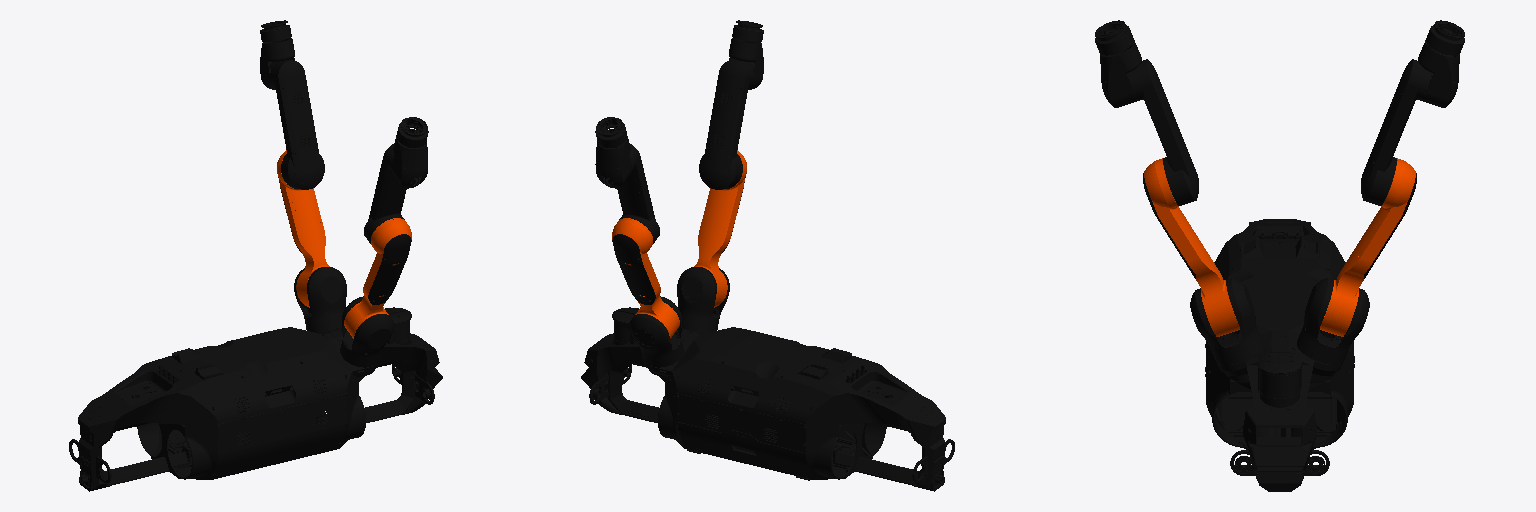
The robot description file, URDF, robot "kyon":
<?xml version="1.0" ?>
<!-- =================================================================================== -->
<!-- |    This document was autogenerated by xacro from kyon.urdf.xacro                | -->
<!-- |    EDITING THIS FILE BY HAND IS NOT RECOMMENDED                                 | -->
<!-- =================================================================================== -->
<robot name="kyon">
  <!-- scaling factor for available peack torque link side, from 0 to 1 -->
  <material name="black">
    <color rgba="0.4 0.4 0.4 1"/>
  </material>
  <material name="dark_grey">
    <color rgba="0.1 0.1 0.1 1"/>
  </material>
  <material name="light_grey">
    <color rgba="0.2 0.2 0.2 1"/>
  </material>
  <material name="kyon_orange">
    <color rgba="0.925 0.325 0.0 1"/>
  </material>
  <!-- Compound properties (i.e. based on the props parsed from the yaml) -->
  <link name="base_link"/>
  <link name="pelvis">
    <inertial>
      <origin xyz="0.056500758 0.002091838 0.086799843"/>
      <mass value="19.962822"/>
      <inertia ixx="0.24817282999999998" ixy="-0.0041644587" ixz="-0.060913554999999994" iyy="1.2563811999999999" iyz="0.00024917702" izz="1.2495441"/>
    </inertial>
    <visual>
      <origin rpy="0.0 0.0 0.0" xyz="0.0 0 0.0"/>
      <geometry>
        <mesh filename="./meshes/mesh_pelvis.stl" scale="0.001 0.001 0.001"/>
      </geometry>
      <material name="dark_grey"/>
    </visual>
    <collision>
      <origin rpy="0.0 0.0 0.0" xyz="0.0 0.0 0.0"/>
      <geometry>
        <box size="0.8 0.3 0.2"/>
      </geometry>
    </collision>
  </link>
  <joint name="base_joint" type="fixed">
    <parent link="pelvis"/>
    <child link="base_link"/>
    <origin rpy="0 0 0" xyz="0 0 0"/>
  </joint>
  <link name="imu_link"/>
  <joint name="imu_joint" type="fixed">
    <origin rpy="3.14159265359 0 0" xyz="-0.256190 0 0.103"/>
    <parent link="pelvis"/>
    <child link="imu_link"/>
  </joint>
  <!-- CAMERA BASE FRAMES -->
  <link name="zed_front_up_mount_link"/>
  <joint name="zed_front_up_mount_joint" type="fixed">
    <parent link="pelvis"/>
    <child link="zed_front_up_mount_link"/>
    <origin rpy="0 -0.1745327 0" xyz="0.526174 0 0.0674608"/>
  </joint>
  <link name="zed_front_down_mount_link"/>
  <joint name="zed_front_down_mount_joint" type="fixed">
    <parent link="pelvis"/>
    <child link="zed_front_down_mount_link"/>
    <origin rpy="0 0.9250251 0" xyz="0.509601 0 0.00343992"/>
  </joint>
  <link name="left_camera_mount_link"/>
  <joint name="left_camera_mount_joint" type="fixed">
    <parent link="pelvis"/>
    <child link="left_camera_mount_link"/>
    <origin rpy="0 0.3490656 1.5707963" xyz="0 0.150100 0.109486"/>
  </joint>
  <link name="right_camera_mount_link"/>
  <joint name="right_camera_mount_joint" type="fixed">
    <parent link="pelvis"/>
    <child link="right_camera_mount_link"/>
    <origin rpy="0 0.3490656 -1.5707963" xyz="0 -0.150100 0.109486"/>
  </joint>
  <!-- Velodyne -->
  <link name="hesai_lidar"/>
  <joint name="hesai_lidar_joints" type="fixed">
    <origin rpy="0 0 0.5220063" xyz="0.43 0 0.118"/>
    <parent link="pelvis"/>
    <child link="hesai_lidar"/>
  </joint>
  <link name="shoulder_yaw_1_link">
    <inertial>
      <origin xyz="-0.00036680683 -0.00091946646 0.039513613999999996"/>
      <mass value="0.68281255"/>
      <inertia ixx="0.0024646423" ixy="6.777069799999999e-07" ixz="-7.4060192e-06" iyy="0.0019177419999999998" iyz="-3.9949027e-05" izz="0.0019116331999999999"/>
    </inertial>
    <visual>
      <origin rpy="0.0 0.0 0.0" xyz="0.0 0.0 0.0"/>
      <geometry>
        <mesh filename="./meshes/mesh_sh_yaw.stl" scale="0.001 0.001 0.001"/>
      </geometry>
      <material name="dark_grey"/>
    </visual>
  </link>
  <link name="shoulder_pitch_1_link">
    <inertial>
      <origin xyz="-7.458544400000001e-06 -0.14775681000000002 -0.0017955048000000001"/>
      <mass value="2.6972599"/>
      <inertia ixx="0.061239751999999995" ixy="-1.9752319e-05" ixz="-5.9550041e-06" iyy="0.0032676404999999998" iyz="-0.00040271622999999996" izz="0.06110526"/>
    </inertial>
    <visual>
      <geometry>
        <mesh filename="./meshes/mesh_sh_pitch_cover.stl" scale="0.001 0.001 0.001"/>
      </geometry>
      <material name="dark_grey"/>
    </visual>
    <visual>
      <geometry>
        <mesh filename="./meshes/mesh_sh_pitch.stl" scale="0.001 0.001 0.001"/>
      </geometry>
      <material name="kyon_orange"/>
    </visual>
  </link>
  <link name="elbow_pitch_1_link">
    <inertial>
      <origin xyz="-0.00032761312 -0.16511035000000002 0.022799378000000002"/>
      <mass value="1.048477"/>
      <inertia ixx="0.01112601" ixy="1.7724864e-05" ixz="6.0670899e-06" iyy="0.00095730481" iyz="-0.0010167295" izz="0.011293245999999998"/>
    </inertial>
    <visual>
      <geometry>
        <mesh filename="./meshes/mesh_elbow.stl" scale="0.001 0.001 0.001"/>
      </geometry>
      <material name="dark_grey"/>
    </visual>
  </link>
  <link name="wrist_pitch_1_link">
    <inertial>
      <origin xyz="-0.00035889305999999997 -0.056046555 -0.010441123"/>
      <mass value="0.8276976"/>
      <inertia ixx="0.001897925" ixy="1.5812979999999998e-05" ixz="-8.8320155e-06" iyy="0.0007269340299999999" iyz="0.00044823507999999996" izz="0.0018533680999999998"/>
    </inertial>
    <visual>
      <origin rpy="0.0 0.0 0.0" xyz="0.0 0.0 0.0"/>
      <geometry>
        <mesh filename="./meshes/mesh_wrist_pitch.stl" scale="0.001 0.001 0.001"/>
      </geometry>
      <material name="dark_grey"/>
    </visual>
  </link>
  <link name="wrist_yaw_1_link">
    <inertial>
      <origin xyz="8.3852847e-05 0.0005684798500000001 -0.018794291"/>
      <mass value="0.13163366"/>
      <inertia ixx="7.7640101e-05" ixy="-6.2563895e-07" ixz="-1.2366562e-07" iyy="7.791881799999999e-05" iyz="8.839218099999999e-07" izz="0.00012246055"/>
    </inertial>
    <visual>
      <origin rpy="0.0 0.0 0.0" xyz="0.0 0.0 0.0"/>
      <geometry>
        <mesh filename="./meshes/mesh_wrist_yaw.stl" scale="0.001 0.001 0.001"/>
      </geometry>
      <material name="dark_grey"/>
    </visual>
  </link>
  <joint name="shoulder_yaw_1" type="revolute">
    <parent link="pelvis"/>
    <child link="shoulder_yaw_1_link"/>
    <origin rpy="-0.3490656 0.0 0.0" xyz="0.28 0.0998258 0.203238"/>
    <axis xyz="0 0 -1"/>
    <limit effort="146" lower="-3.312" upper="3.312" velocity="3.8"/>
  </joint>
  <joint name="shoulder_pitch_1" type="revolute">
    <parent link="shoulder_yaw_1_link"/>
    <child link="shoulder_pitch_1_link"/>
    <origin rpy="-1.57079632679 0.0 -3.14159265358" xyz="0.0 0.0 0.0735"/>
    <axis xyz="0 0 1"/>
    <limit effort="122" lower="-3" upper="3" velocity="4.6"/>
  </joint>
  <joint name="elbow_pitch_1" type="revolute">
    <parent link="shoulder_pitch_1_link"/>
    <child link="elbow_pitch_1_link"/>
    <origin rpy="0.0 0.0 0.0" xyz="0.0 -0.32 0.0"/>
    <axis xyz="0 0 -1"/>
    <limit effort="122" lower="-3" upper="3" velocity="4.6"/>
  </joint>
  <joint name="wrist_pitch_1" type="revolute">
    <parent link="elbow_pitch_1_link"/>
    <child link="wrist_pitch_1_link"/>
    <origin rpy="0.0 0.0 0.0" xyz="0.0 -0.25 0.0"/>
    <axis xyz="0 0 -1"/>
    <limit effort="25" lower="-2.4056" upper="2.4056" velocity="14"/>
  </joint>
  <joint name="wrist_yaw_1" type="revolute">
    <parent link="wrist_pitch_1_link"/>
    <child link="wrist_yaw_1_link"/>
    <origin rpy="1.57079632679 0.0 0.0" xyz="0.0 -0.13861199999999999 0.0"/>
    <axis xyz="0 0 1"/>
    <limit effort="25" lower="-2.4056" upper="2.4056" velocity="14"/>
  </joint>
  <link name="dagana_1_base">
    <inertial>
      <origin xyz="-0.004224466600000001 -0.0027238215 0.053670845"/>
      <mass value="0.96534359"/>
      <inertia ixx="0.0020957096" ixy="-6.455410899999999e-05" ixz="4.4955880999999996e-05" iyy="0.0021216529" iyz="0.00037094612999999995" izz="0.0011572224"/>
    </inertial>
    <visual>
      <origin rpy="0.0 0.0 0.0" xyz="0.0 0.0 0.0"/>
      <geometry>
        <mesh filename="./meshes/mesh_dagana_base.stl" scale="0.001 0.001 0.001"/>
      </geometry>
      <material name="dark_grey"/>
    </visual>
  </link>
  <link name="dagana_1_claw">
    <inertial>
      <origin xyz="-0.0516203 0.0080601187 -0.037212096"/>
      <mass value="0.25739835"/>
      <inertia ixx="0.00029169897" ixy="8.3015178e-06" ixz="1.3355847e-05" iyy="0.00073268589" iyz="-2.1083033000000003e-06" izz="0.00051112938"/>
    </inertial>
    <visual>
      <origin rpy="0.0 0.0 0.0" xyz="0.0 0.0 0.0"/>
      <geometry>
        <mesh filename="./meshes/mesh_dagana_clamp.stl" scale="0.001 0.001 0.001"/>
      </geometry>
      <material name="dark_grey"/>
    </visual>
  </link>
  <joint name="dagana_1_base_joint" type="fixed">
    <parent link="wrist_yaw_1_link"/>
    <child link="dagana_1_base"/>
    <origin rpy="0.0 0.0 0.0" xyz="0.0 0.0 0.0"/>
  </joint>
  <joint name="dagana_1_clamp_joint" type="revolute">
    <parent link="dagana_1_base"/>
    <child link="dagana_1_claw"/>
    <origin rpy="0.0 1.57079632679 0.0" xyz="0.0361625 0.016 0.044"/>
    <axis xyz="0 0 1"/>
    <limit effort="25" lower="-3.4056" upper="3.4056" velocity="14"/>
  </joint>
  <link name="shoulder_yaw_2_link">
    <inertial>
      <origin xyz="-0.00036680683 -0.00091946646 0.039513613999999996"/>
      <mass value="0.68281255"/>
      <inertia ixx="0.0024646423" ixy="6.777069799999999e-07" ixz="-7.4060192e-06" iyy="0.0019177419999999998" iyz="-3.9949027e-05" izz="0.0019116331999999999"/>
    </inertial>
    <visual>
      <origin rpy="0.0 0.0 0.0" xyz="0.0 0.0 0.0"/>
      <geometry>
        <mesh filename="./meshes/mesh_sh_yaw.stl" scale="0.001 0.001 0.001"/>
      </geometry>
      <material name="dark_grey"/>
    </visual>
  </link>
  <link name="shoulder_pitch_2_link">
    <inertial>
      <origin xyz="-7.458544400000001e-06 -0.14775681000000002 -0.0017955048000000001"/>
      <mass value="2.6972599"/>
      <inertia ixx="0.061239751999999995" ixy="-1.9752319e-05" ixz="-5.9550041e-06" iyy="0.0032676404999999998" iyz="-0.00040271622999999996" izz="0.06110526"/>
    </inertial>
    <visual>
      <geometry>
        <mesh filename="./meshes/mesh_sh_pitch_cover.stl" scale="0.001 0.001 0.001"/>
      </geometry>
      <material name="dark_grey"/>
    </visual>
    <visual>
      <geometry>
        <mesh filename="./meshes/mesh_sh_pitch.stl" scale="0.001 0.001 0.001"/>
      </geometry>
      <material name="kyon_orange"/>
    </visual>
  </link>
  <link name="elbow_pitch_2_link">
    <inertial>
      <origin xyz="-0.00032761312 -0.16511035000000002 0.022799378000000002"/>
      <mass value="1.048477"/>
      <inertia ixx="0.01112601" ixy="1.7724864e-05" ixz="6.0670899e-06" iyy="0.00095730481" iyz="-0.0010167295" izz="0.011293245999999998"/>
    </inertial>
    <visual>
      <geometry>
        <mesh filename="./meshes/mesh_elbow.stl" scale="0.001 0.001 0.001"/>
      </geometry>
      <material name="dark_grey"/>
    </visual>
  </link>
  <link name="wrist_pitch_2_link">
    <inertial>
      <origin xyz="-0.00035889305999999997 -0.056046555 -0.010441123"/>
      <mass value="0.8276976"/>
      <inertia ixx="0.001897925" ixy="1.5812979999999998e-05" ixz="-8.8320155e-06" iyy="0.0007269340299999999" iyz="0.00044823507999999996" izz="0.0018533680999999998"/>
    </inertial>
    <visual>
      <origin rpy="0.0 0.0 0.0" xyz="0.0 0.0 0.0"/>
      <geometry>
        <mesh filename="./meshes/mesh_wrist_pitch.stl" scale="0.001 0.001 0.001"/>
      </geometry>
      <material name="dark_grey"/>
    </visual>
  </link>
  <link name="wrist_yaw_2_link">
    <inertial>
      <origin xyz="8.3852847e-05 0.0005684798500000001 -0.018794291"/>
      <mass value="0.13163366"/>
      <inertia ixx="7.7640101e-05" ixy="-6.2563895e-07" ixz="-1.2366562e-07" iyy="7.791881799999999e-05" iyz="8.839218099999999e-07" izz="0.00012246055"/>
    </inertial>
    <visual>
      <origin rpy="0.0 0.0 0.0" xyz="0.0 0.0 0.0"/>
      <geometry>
        <mesh filename="./meshes/mesh_wrist_yaw.stl" scale="0.001 0.001 0.001"/>
      </geometry>
      <material name="dark_grey"/>
    </visual>
  </link>
  <joint name="shoulder_yaw_2" type="revolute">
    <parent link="pelvis"/>
    <child link="shoulder_yaw_2_link"/>
    <origin rpy="0.3490656 0.0 0.0" xyz="0.28 -0.0998258 0.203238"/>
    <axis xyz="0 0 -1"/>
    <limit effort="146" lower="-3.3458" upper="3.3458" velocity="3.8"/>
  </joint>
  <joint name="shoulder_pitch_2" type="revolute">
    <parent link="shoulder_yaw_2_link"/>
    <child link="shoulder_pitch_2_link"/>
    <origin rpy="-1.57079632679 0.0 0.0" xyz="0.0 0.0 0.0735"/>
    <axis xyz="0 0 1"/>
    <limit effort="122" lower="-3" upper="3" velocity="4.6"/>
  </joint>
  <joint name="elbow_pitch_2" type="revolute">
    <parent link="shoulder_pitch_2_link"/>
    <child link="elbow_pitch_2_link"/>
    <origin rpy="0.0 0.0 0.0" xyz="0.0 -0.32 0.0"/>
    <axis xyz="0 0 -1"/>
    <limit effort="122" lower="-3" upper="3" velocity="4.6"/>
  </joint>
  <joint name="wrist_pitch_2" type="revolute">
    <parent link="elbow_pitch_2_link"/>
    <child link="wrist_pitch_2_link"/>
    <origin rpy="0.0 0.0 0.0" xyz="0.0 -0.25 0.0"/>
    <axis xyz="0 0 -1"/>
    <limit effort="25" lower="-2.3266" upper="2.3266" velocity="14"/>
  </joint>
  <joint name="wrist_yaw_2" type="revolute">
    <parent link="wrist_pitch_2_link"/>
    <child link="wrist_yaw_2_link"/>
    <origin rpy="1.57079632679 0.0 0.0" xyz="0.0 -0.13861199999999999 0.0"/>
    <axis xyz="0 0 1"/>
    <limit effort="25" lower="-2.3266" upper="2.3266" velocity="14"/>
  </joint>
  <link name="dagana_2_base">
    <inertial>
      <origin xyz="-0.004224466600000001 -0.0027238215 0.053670845"/>
      <mass value="0.96534359"/>
      <inertia ixx="0.0020957096" ixy="-6.455410899999999e-05" ixz="4.4955880999999996e-05" iyy="0.0021216529" iyz="0.00037094612999999995" izz="0.0011572224"/>
    </inertial>
    <visual>
      <origin rpy="0.0 0.0 0.0" xyz="0.0 0.0 0.0"/>
      <geometry>
        <mesh filename="./meshes/mesh_dagana_base.stl" scale="0.001 0.001 0.001"/>
      </geometry>
      <material name="dark_grey"/>
    </visual>
  </link>
  <link name="dagana_2_claw">
    <inertial>
      <origin xyz="-0.0516203 0.0080601187 -0.037212096"/>
      <mass value="0.25739835"/>
      <inertia ixx="0.00029169897" ixy="8.3015178e-06" ixz="1.3355847e-05" iyy="0.00073268589" iyz="-2.1083033000000003e-06" izz="0.00051112938"/>
    </inertial>
    <visual>
      <origin rpy="0.0 0.0 0.0" xyz="0.0 0.0 0.0"/>
      <geometry>
        <mesh filename="./meshes/mesh_dagana_clamp.stl" scale="0.001 0.001 0.001"/>
      </geometry>
      <material name="dark_grey"/>
    </visual>
  </link>
  <joint name="dagana_2_base_joint" type="fixed">
    <parent link="wrist_yaw_2_link"/>
    <child link="dagana_2_base"/>
    <origin rpy="0.0 0.0 0.0" xyz="0.0 0.0 0.0"/>
  </joint>
  <joint name="dagana_2_clamp_joint" type="revolute">
    <parent link="dagana_2_base"/>
    <child link="dagana_2_claw"/>
    <origin rpy="0.0 1.57079632679 0.0" xyz="0.0361625 0.016 0.044"/>
    <axis xyz="0 0 1"/>
    <limit effort="25" lower="-3.3266" upper="3.3266" velocity="14"/>
  </joint>
</robot>

--- What the picture shows (computed from the rendered views, not written in the file) ---
Views: 3 orthographic renders of the robot side by side, from view 1: azimuth 30°, elevation 25°; view 2: azimuth 150°, elevation 25°; view 3: azimuth 270°, elevation 25°.
Model kyon with 22 links and 21 joints (12 revolute, 9 fixed), rooted at pelvis, posed all joints at 0.
Links seen in each view (by area): view 1: pelvis, elbow_pitch_1_link, shoulder_pitch_2_link, shoulder_pitch_1_link, shoulder_yaw_1_link, shoulder_yaw_2_link, elbow_pitch_2_link, wrist_pitch_2_link, wrist_pitch_1_link, wrist_yaw_2_link, wrist_yaw_1_link; view 2: pelvis, elbow_pitch_2_link, shoulder_pitch_1_link, shoulder_pitch_2_link, shoulder_yaw_2_link, shoulder_yaw_1_link, elbow_pitch_1_link, wrist_pitch_1_link, wrist_pitch_2_link, wrist_yaw_1_link, wrist_yaw_2_link; view 3: pelvis, shoulder_pitch_1_link, shoulder_pitch_2_link, elbow_pitch_1_link, elbow_pitch_2_link, shoulder_yaw_1_link, shoulder_yaw_2_link, wrist_pitch_1_link, wrist_pitch_2_link, wrist_yaw_1_link, wrist_yaw_2_link.
Boxes of the visible links, x1,y1,x2,y2 form: pelvis: (69, 307, 442, 491); elbow_pitch_1_link: (270, 60, 324, 189); shoulder_pitch_2_link: (344, 218, 411, 338); shoulder_pitch_1_link: (277, 150, 329, 307); shoulder_yaw_1_link: (294, 267, 346, 332); shoulder_yaw_2_link: (340, 296, 394, 367); elbow_pitch_2_link: (364, 144, 406, 243); wrist_pitch_2_link: (391, 129, 427, 188); wrist_pitch_1_link: (260, 38, 294, 89); wrist_yaw_2_link: (397, 117, 428, 147); wrist_yaw_1_link: (260, 20, 291, 41); pelvis: (581, 307, 954, 491); elbow_pitch_2_link: (699, 60, 753, 189); shoulder_pitch_1_link: (612, 218, 679, 338); shoulder_pitch_2_link: (694, 150, 746, 307); shoulder_yaw_2_link: (677, 267, 729, 332); shoulder_yaw_1_link: (629, 296, 683, 367); elbow_pitch_1_link: (617, 144, 659, 243); wrist_pitch_1_link: (595, 129, 632, 188); wrist_pitch_2_link: (729, 38, 763, 89); wrist_yaw_1_link: (595, 117, 626, 147); wrist_yaw_2_link: (732, 20, 763, 41); pelvis: (1205, 219, 1354, 491); shoulder_pitch_1_link: (1320, 158, 1416, 336); shoulder_pitch_2_link: (1143, 158, 1239, 336); elbow_pitch_1_link: (1361, 59, 1431, 205); elbow_pitch_2_link: (1128, 59, 1198, 205); shoulder_yaw_1_link: (1297, 278, 1369, 364); shoulder_yaw_2_link: (1190, 278, 1262, 364); wrist_pitch_1_link: (1418, 40, 1459, 107); wrist_pitch_2_link: (1100, 40, 1141, 107); wrist_yaw_1_link: (1426, 20, 1464, 55); wrist_yaw_2_link: (1095, 20, 1133, 55).
Size in the robot's own frame: 1.07 by 0.8013 by 1.03 metres.
Meshes: 9 distinct files referenced, 13 mesh visuals loaded (7 binary STL); not drawn: 4 (reference not matched to a file when rendering).
